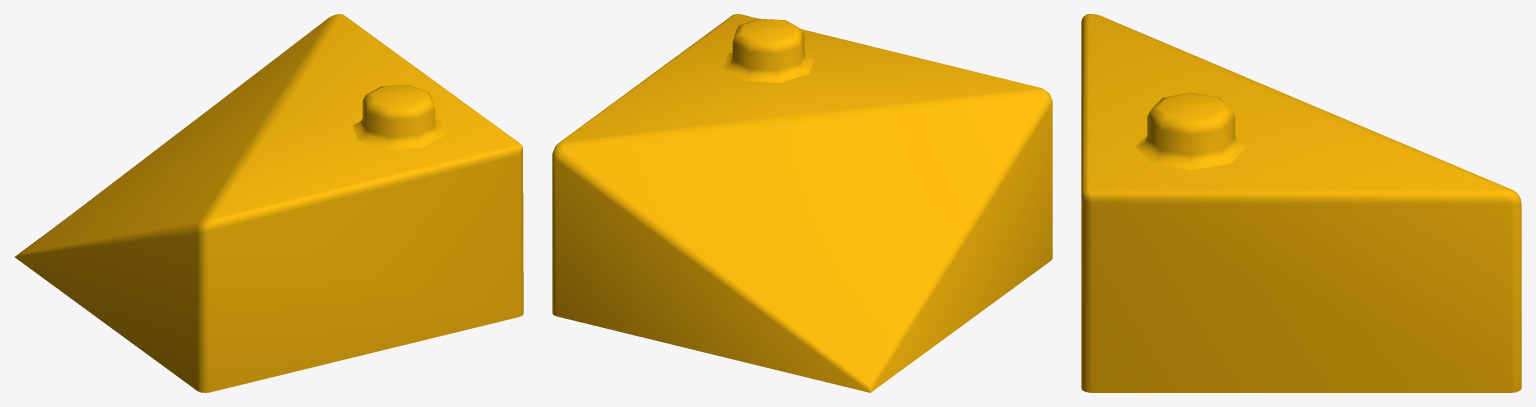
The model's file is Full_Bevel_Half.fbx.
The picture shows the model from 3 angles, left to right: view 1: azimuth 30°, elevation 25°; view 2: azimuth 150°, elevation 25°; view 3: azimuth 270°, elevation 25°; orthographic projection. The views are drawn at different scales.
Visible parts, largest first — view 1: Full_Bevel_Half, Knobs.010; view 2: Full_Bevel_Half, Knobs.010; view 3: Full_Bevel_Half, Knobs.010.
Part boxes in pixels (x1=…): Full_Bevel_Half: x1=14, y1=14, x2=523, y2=392; Knobs.010: x1=353, y1=85, x2=444, y2=149; Full_Bevel_Half: x1=552, y1=14, x2=1052, y2=392; Knobs.010: x1=723, y1=18, x2=813, y2=82; Full_Bevel_Half: x1=1081, y1=14, x2=1521, y2=392; Knobs.010: x1=1135, y1=92, x2=1246, y2=170.
Bounding box in the file's own units: 1 × 0.6 × 1.
